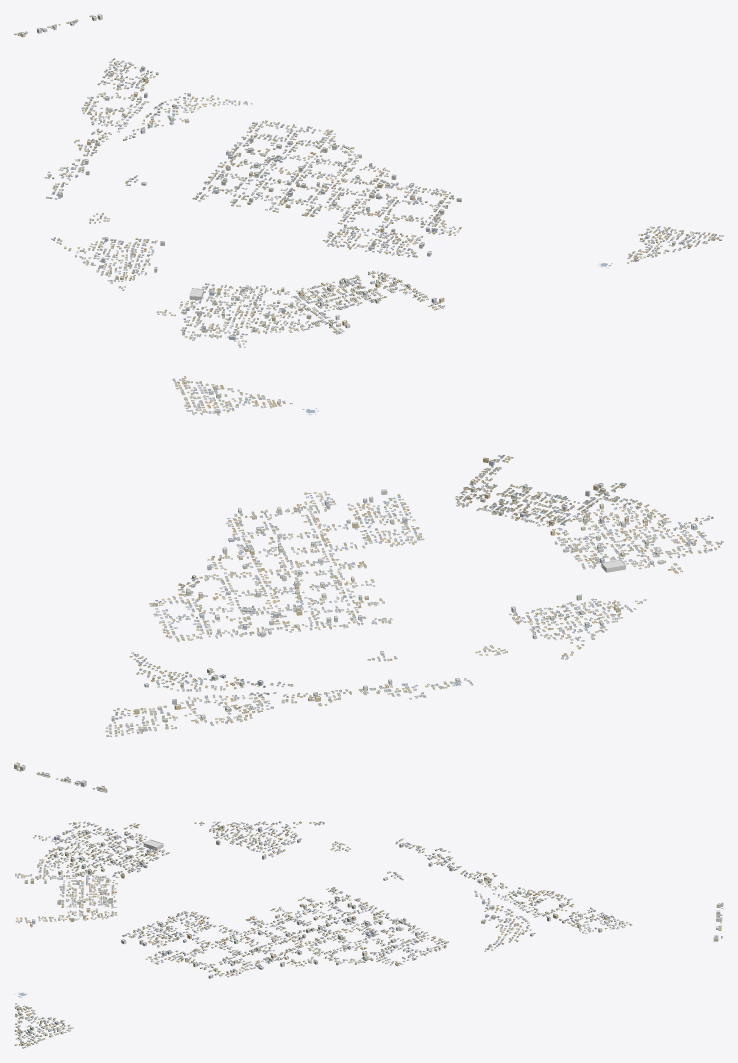
3 renders of one model, top to bottom at view 1: azimuth 30°, elevation 25°; view 2: azimuth 150°, elevation 25°; view 3: azimuth 270°, elevation 25°, orthographic. The views are drawn at different scales.
Parts seen in each view (by area): view 1: house, roof_zinc, apartment, roof_flat; view 2: house, roof_zinc, apartment, roof_flat; view 3: house, roof_zinc, apartment, roof_flat.
Part boxes in pixels (left/top/right/bottom): house: left=14, top=15, right=723, bottom=347; roof_zinc: left=15, top=15, right=722, bottom=346; apartment: left=20, top=14, right=715, bottom=339; roof_flat: left=21, top=14, right=714, bottom=336; house: left=17, top=376, right=723, bottom=792; roof_zinc: left=16, top=376, right=722, bottom=792; apartment: left=14, top=380, right=697, bottom=791; roof_flat: left=15, top=381, right=696, bottom=787; house: left=14, top=821, right=723, bottom=1048; roof_zinc: left=14, top=821, right=723, bottom=1048; apartment: left=17, top=825, right=720, bottom=1045; roof_flat: left=18, top=825, right=720, bottom=1043.
Size of the model in its own units: 1.04e+08 by 731016 by 1.37e+08.
